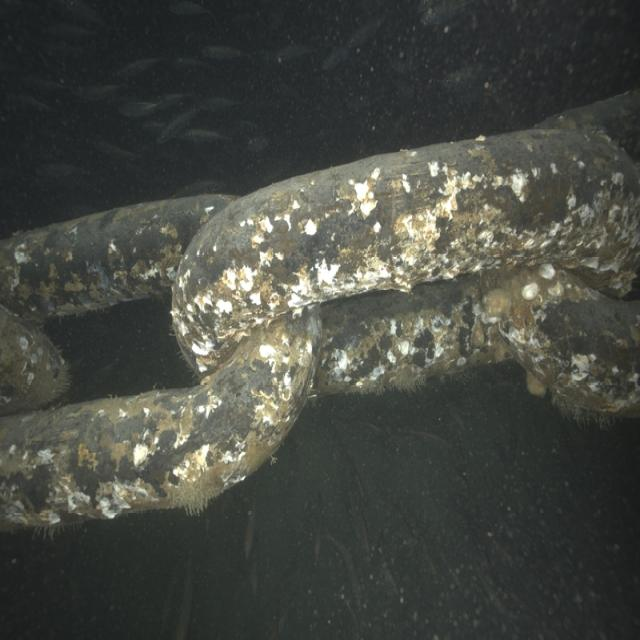ChainLink: (172, 125, 640, 390), (0, 313, 321, 529), (0, 195, 230, 321), (482, 265, 640, 415), (536, 91, 640, 175), (0, 306, 69, 415)
